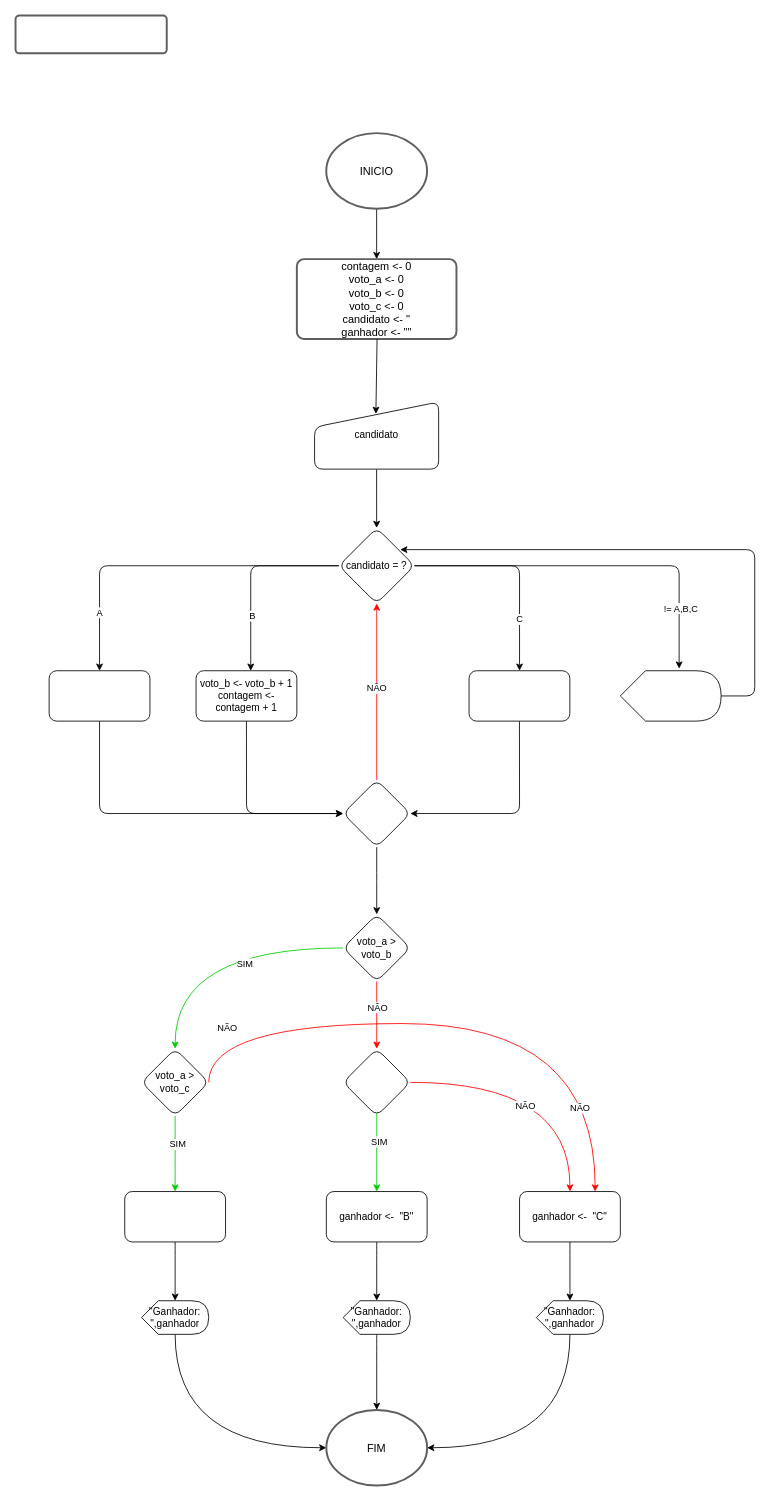
Image size: 776x1501. Some labels were removed from this diagram. Here are the shapes that lost their labels. From the top down, the box of each, then its label:
(14, 14, 167, 54): QUESTÃO 10 - AdemarROV
(48, 670, 150, 721): voto_a <- voto_a + 1 contagem <- contagem + 1
(468, 670, 570, 721): voto_c <- voto_c + 1 contagem <- contagem + 1
(620, 670, 721, 721): "Valor Inválido!"
(342, 779, 410, 847): contagem = 100
(342, 1048, 410, 1116): voto_b > voto_c
(124, 1191, 226, 1242): ganhador <- "A"
